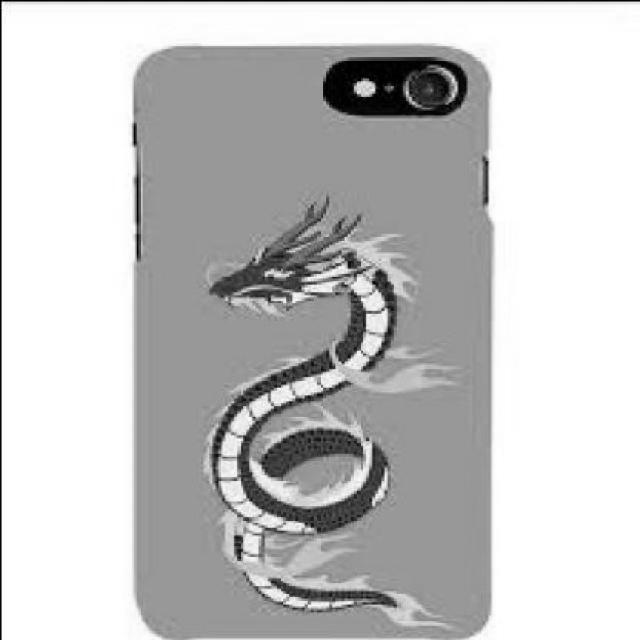fake: (128, 42, 487, 638)
